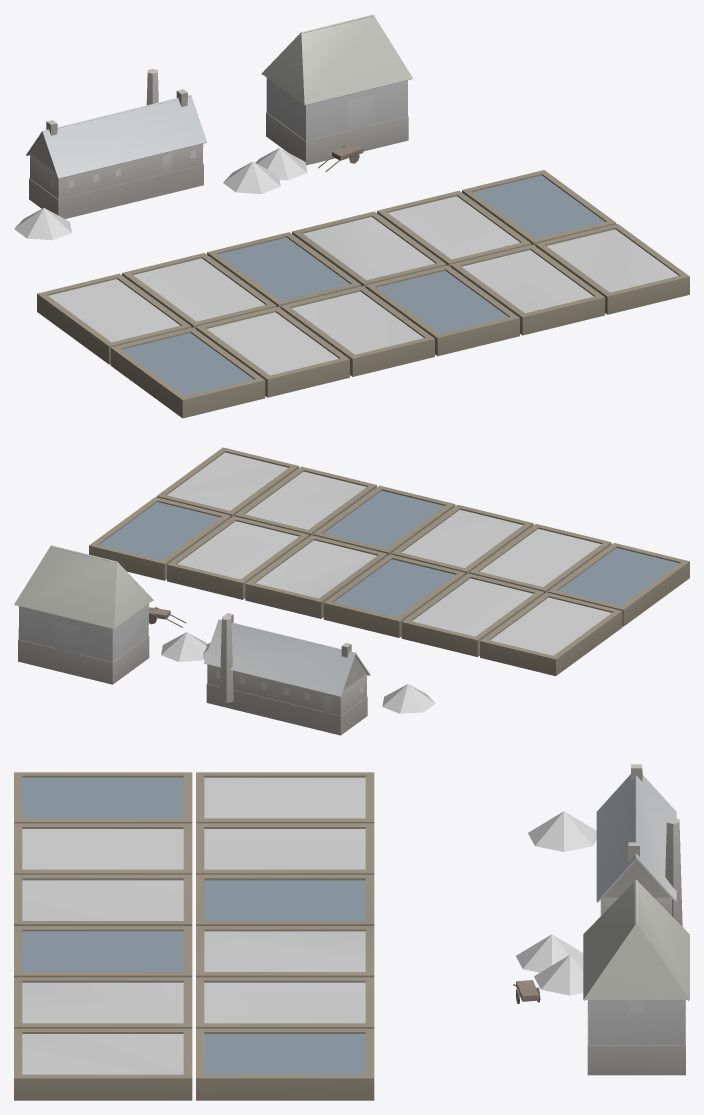
File: saltworks_2.glb
3 renders of one model, top to bottom at view 1: azimuth 30°, elevation 25°; view 2: azimuth 150°, elevation 25°; view 3: azimuth 270°, elevation 25°, orthographic. The views are drawn at different scales.
Visible parts, largest first — view 1: saltworks_2; view 2: saltworks_2; view 3: saltworks_2.
Boxes of the visible parts, x1=… form: saltworks_2: x1=14, y1=14, x2=689, y2=418; saltworks_2: x1=14, y1=447, x2=689, y2=735; saltworks_2: x1=14, y1=764, x2=689, y2=1100.
Bounding box in the file's own units: 59.7 × 12.99 × 55.73.
